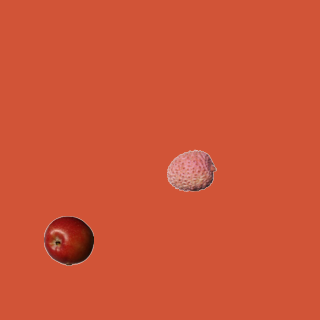Apple Braeburn: (43, 215, 93, 265)
Lychee: (166, 145, 216, 195)
